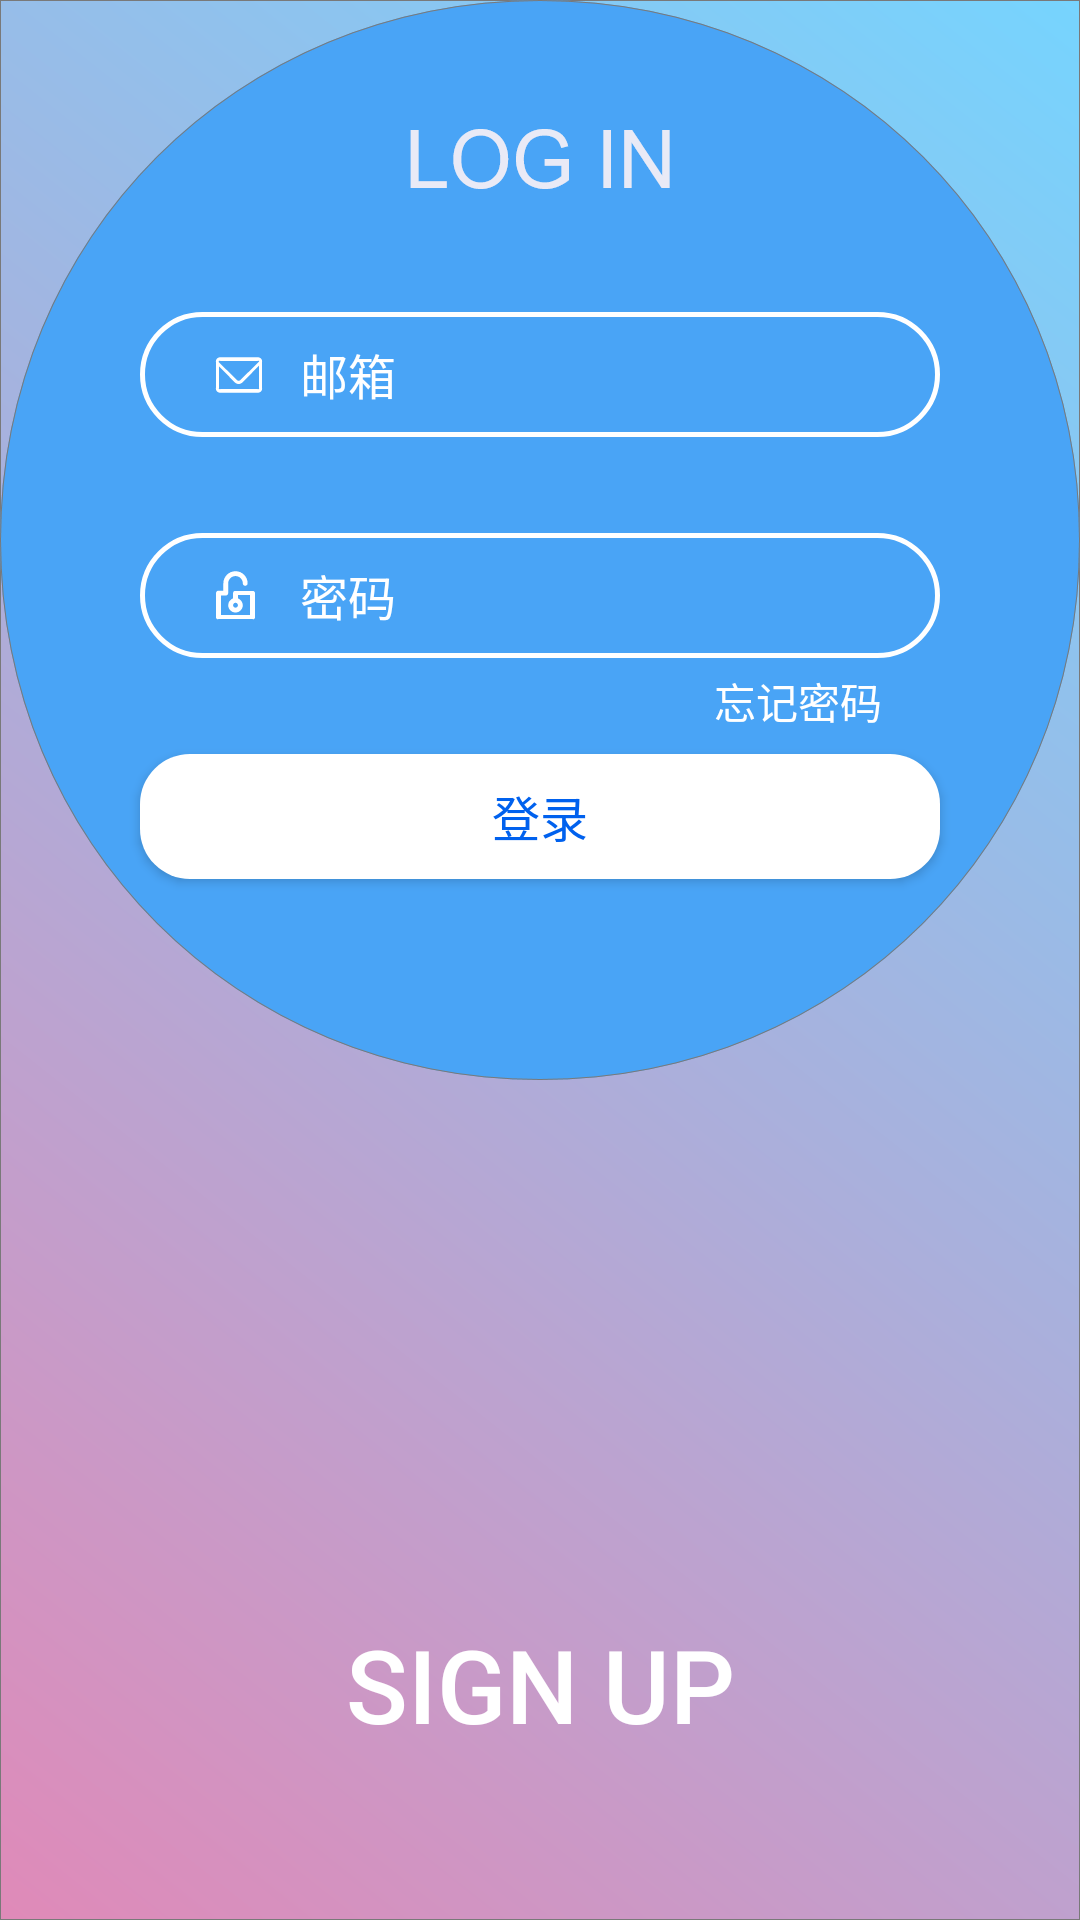

Named icons in this screenshot (1080*1920) and their bounding boxes, (x1, y1, x2, y2):
lock: (216, 571, 255, 620)
mail: (216, 357, 262, 393)
